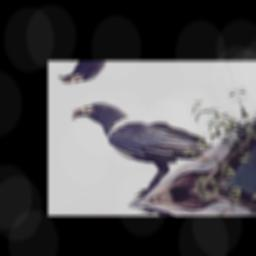Crow: (68, 79, 229, 208)
